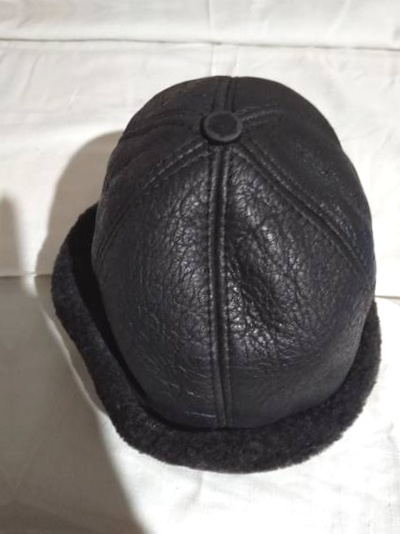Hat: (29, 42, 400, 463), (400, 29, 400, 451)
